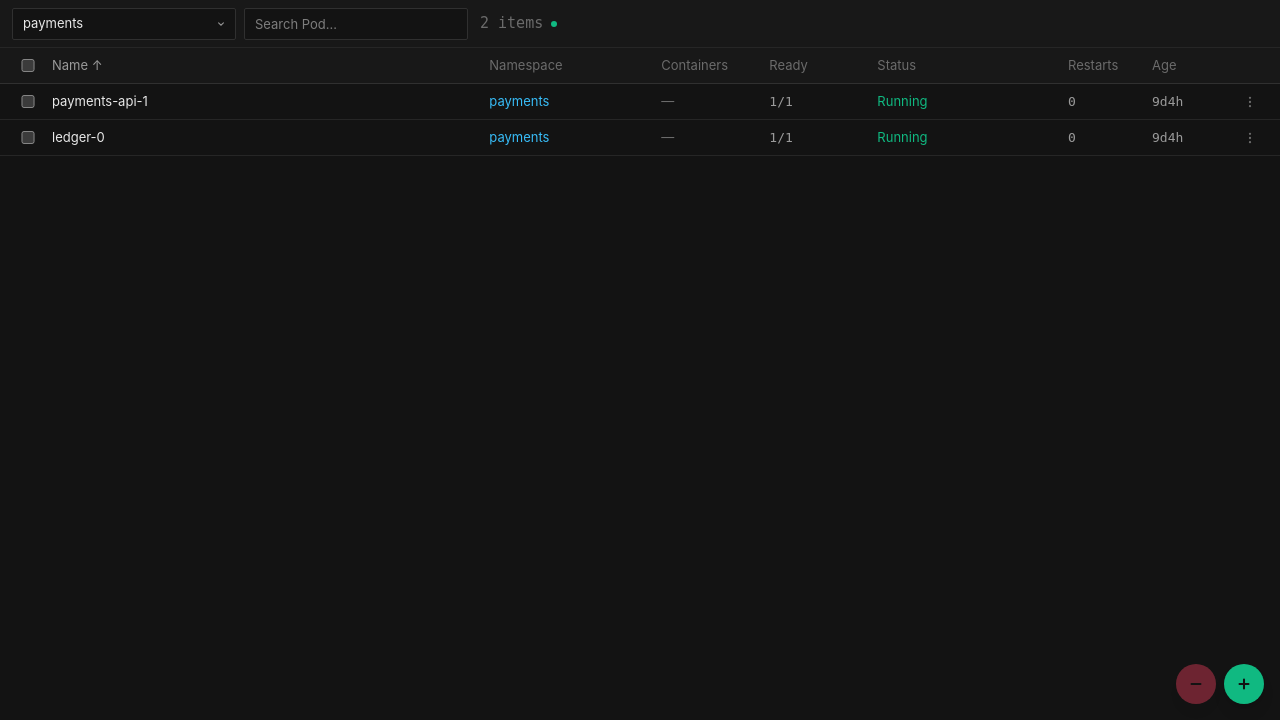
ResourceTable › sends the filter to the server rather than narrowing locally
Expected: the text "payments-api-1" is shown, [52,92,148,111]
Type "ledger" into the field named "Filter Pod" at (356, 24), box [244,8,468,40]
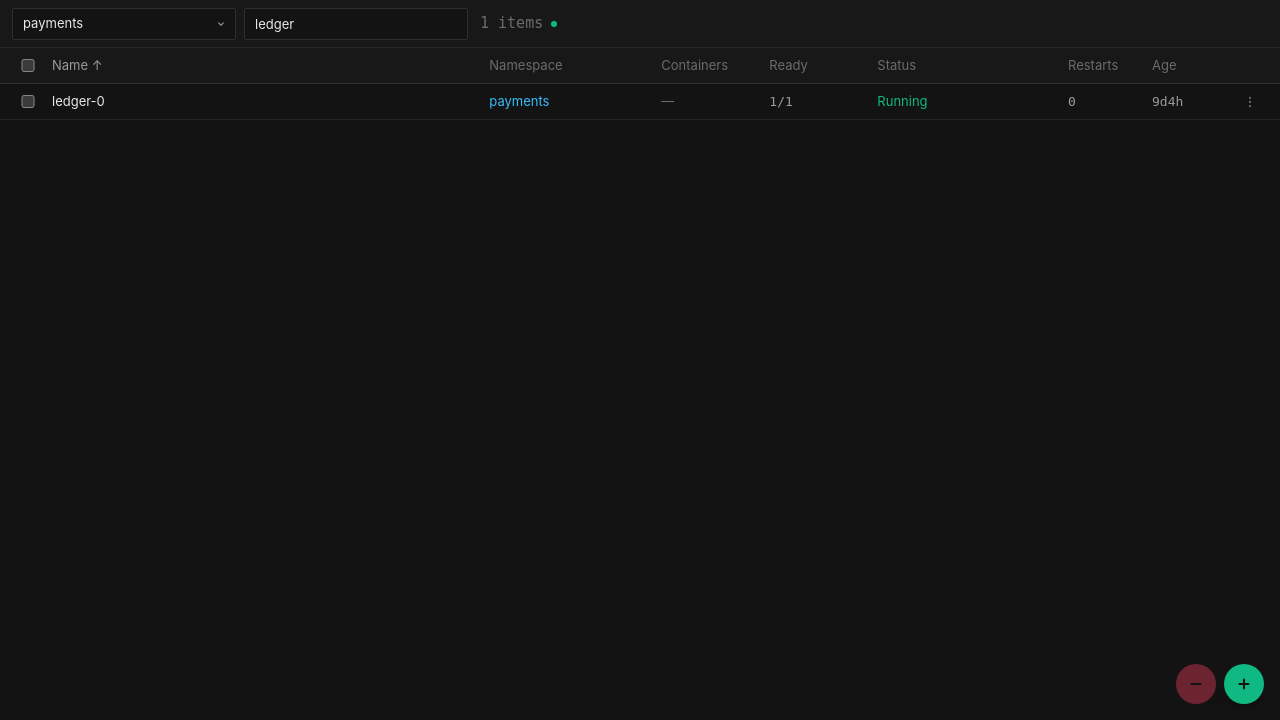
Expected: the text "ledger-0" is shown, [52,92,105,111]
Result: the text "payments-api-1" is gone
